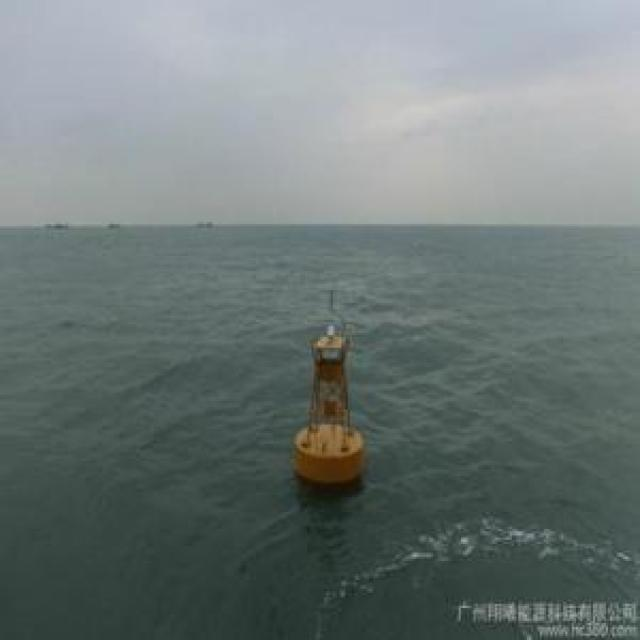buoy: (287, 310, 365, 488)
